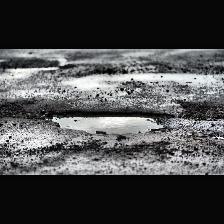pothole: (45, 109, 169, 134)
